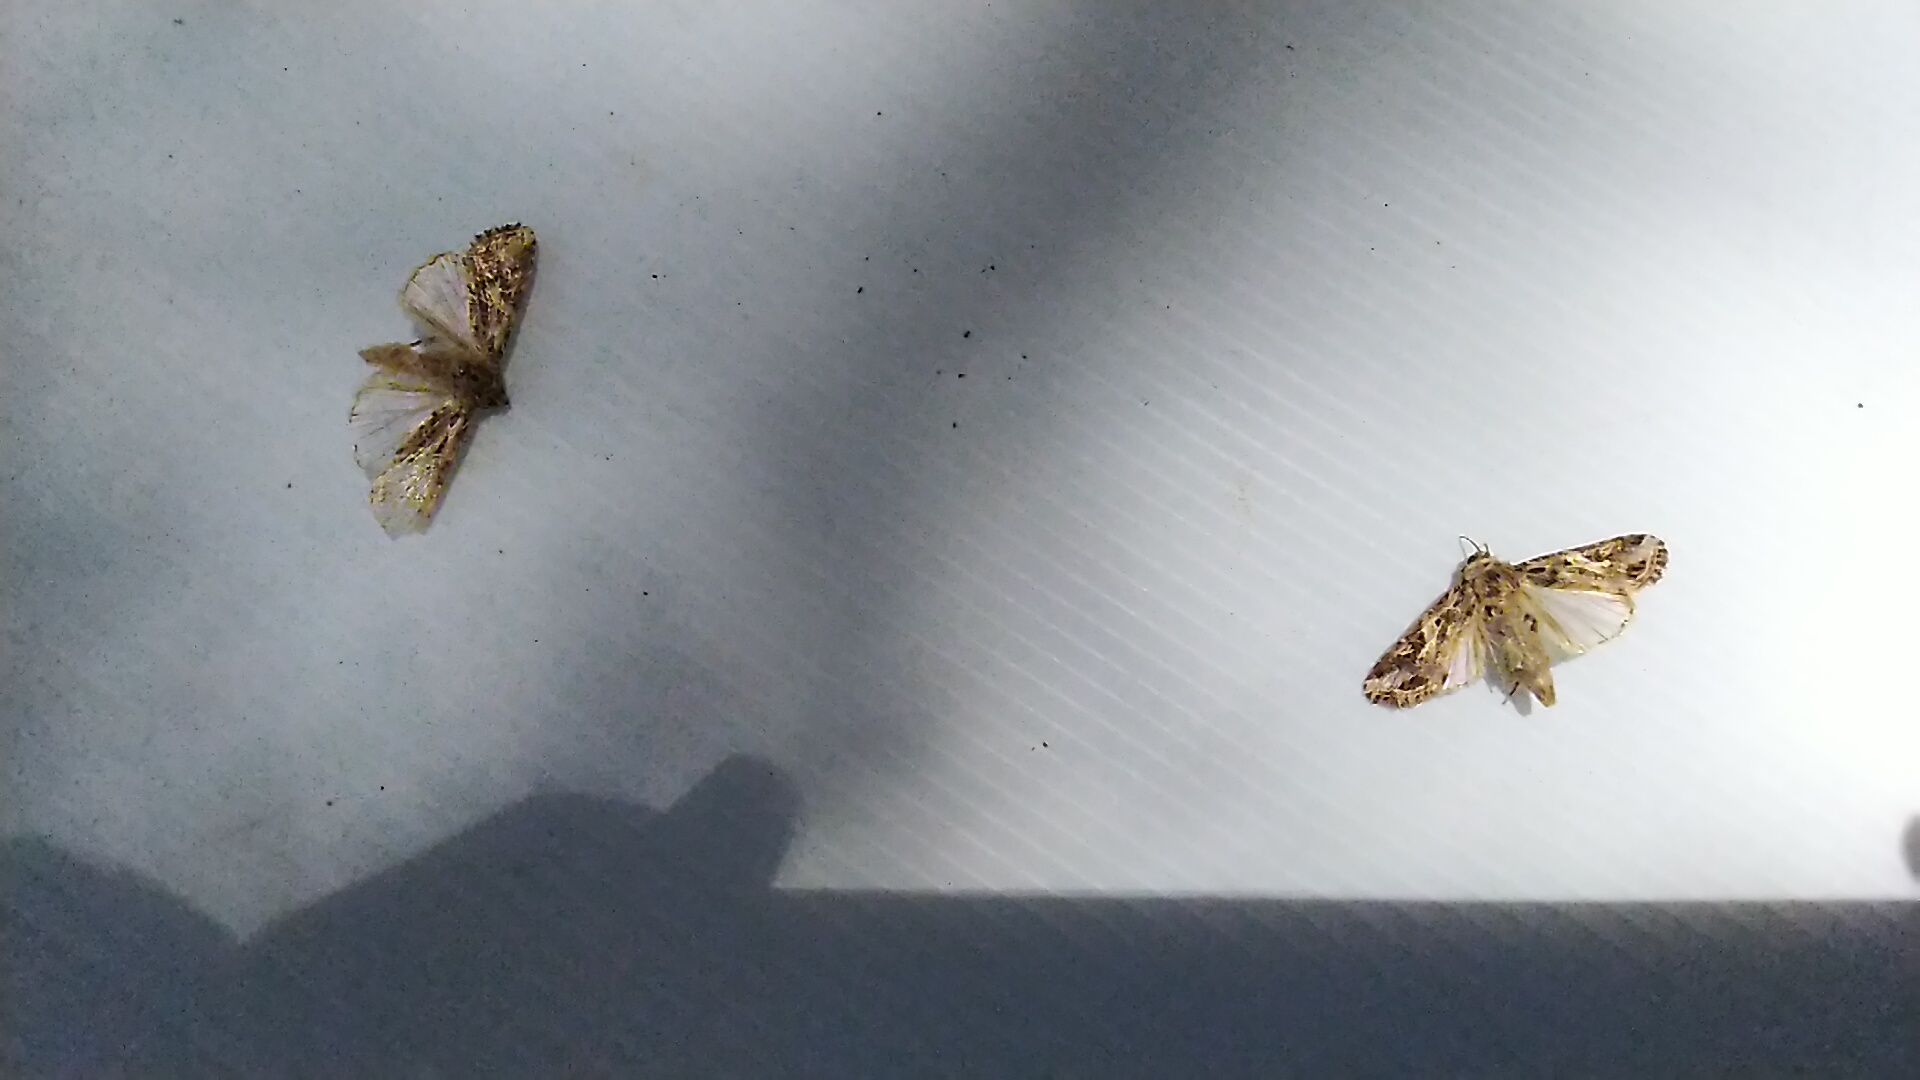INS-B: (324, 215, 553, 543), (1364, 509, 1685, 732)
